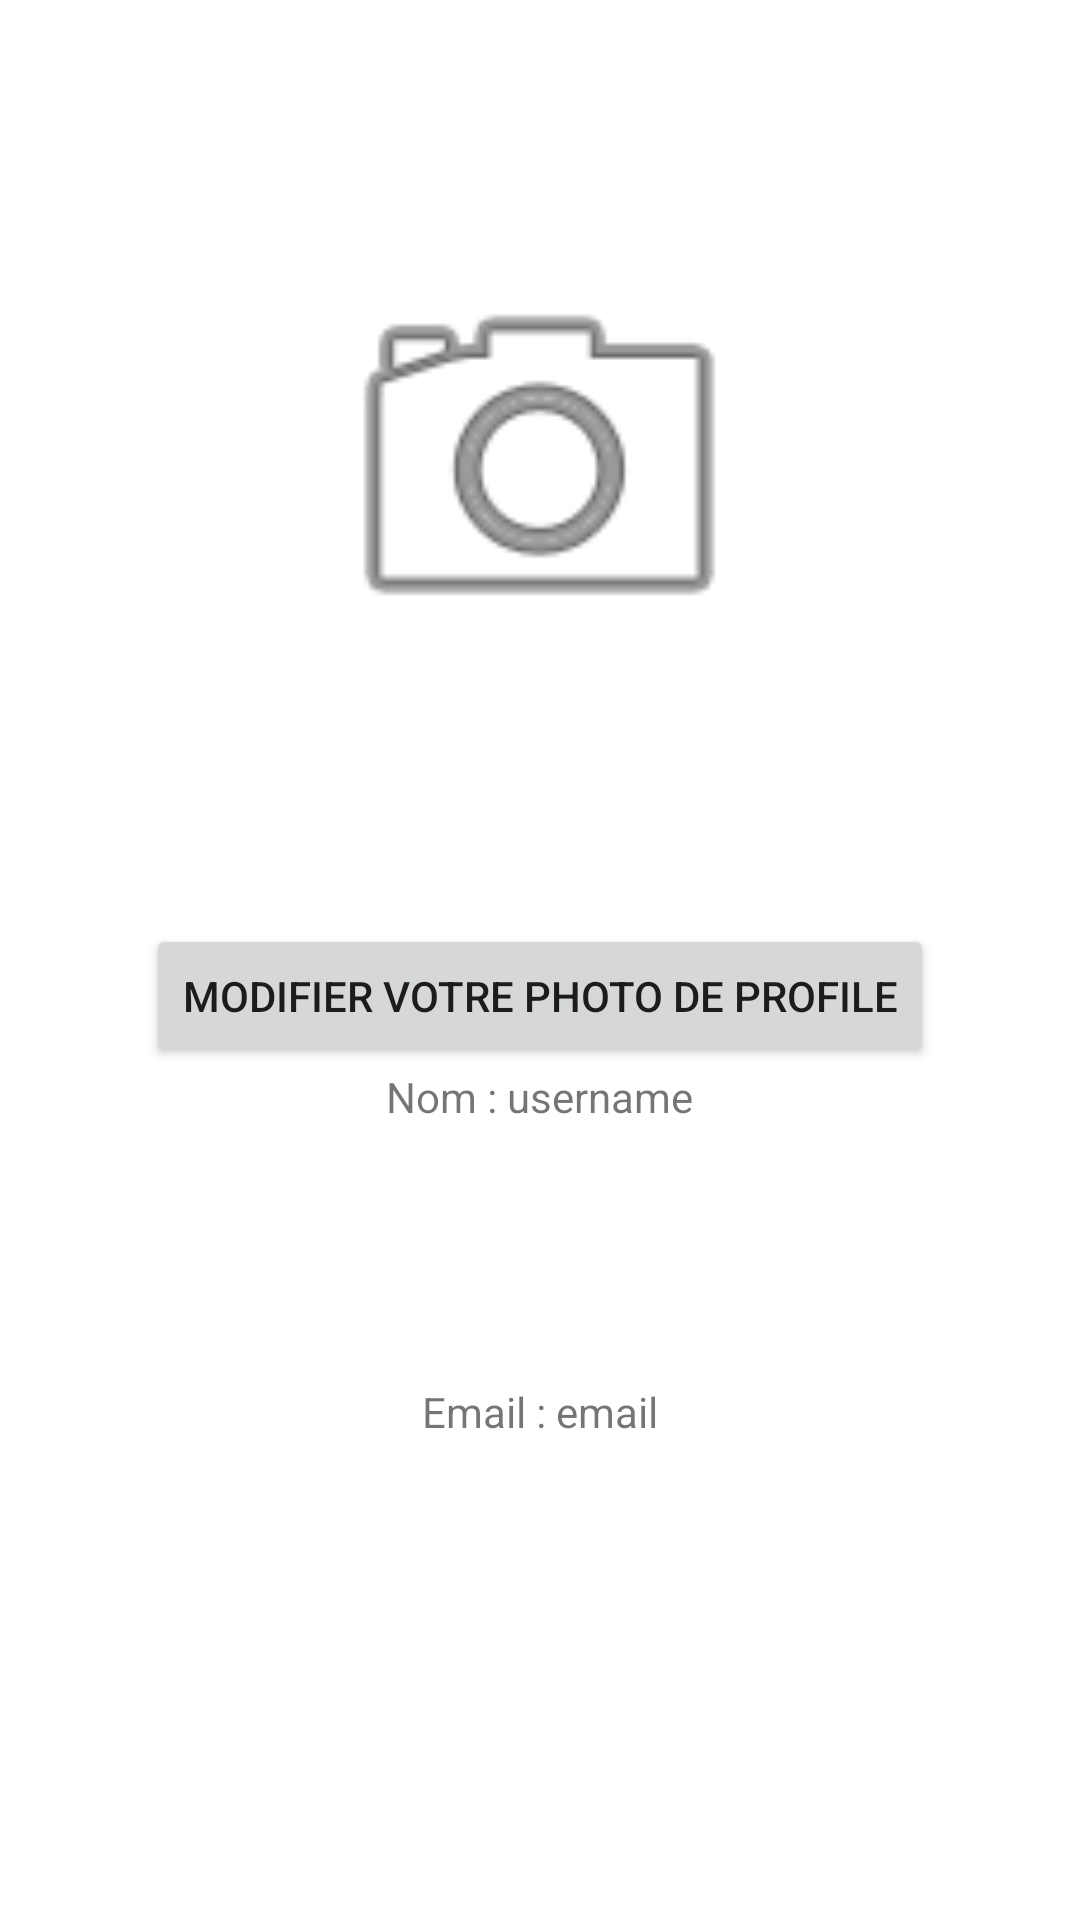

Icons on this 1080 x 1920 Android screen, each with its box as BBox(x1, y1, x2, y2):
camera: BBox(364, 315, 715, 595)
